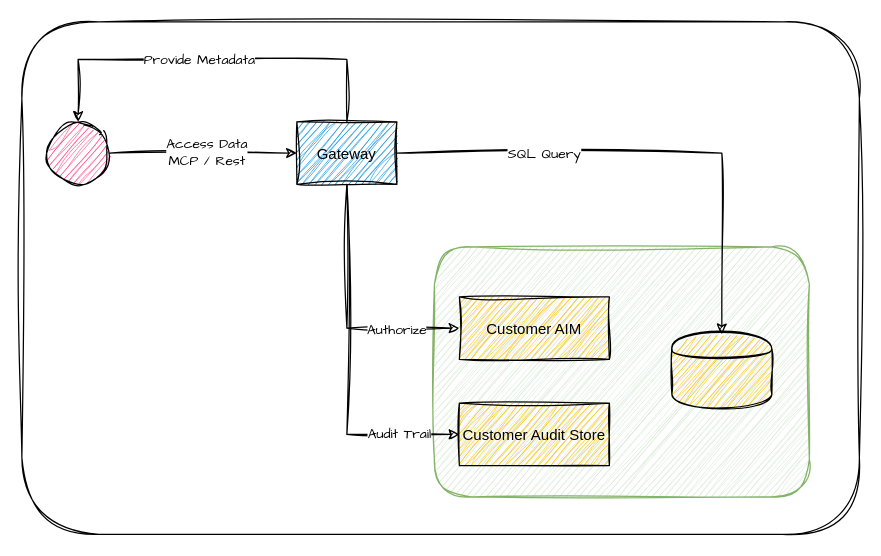
Image size: 881x556. Some labels were removed from this diagram. Here are the shapes that lost their labels. From the top down, the centre of each, then its label:
point (77, 152): AI
point (721, 371): PG/Mysql
